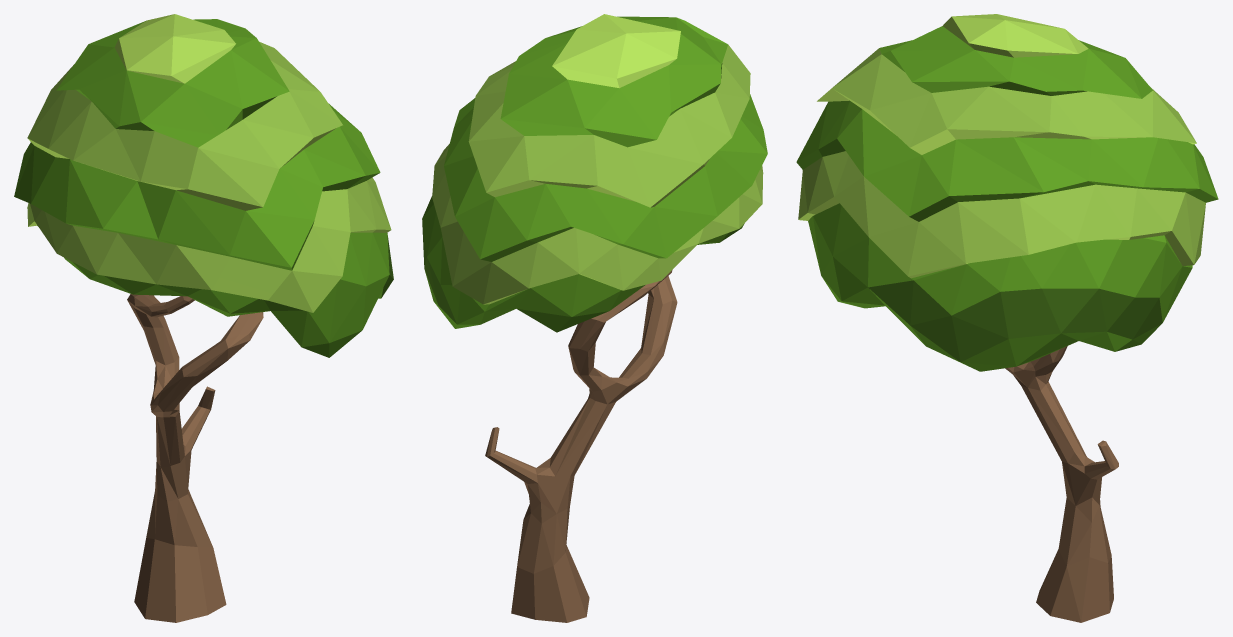
The model's file is low_poly_tree_2.glb.
3 renders of one model, left to right at view 1: azimuth 30°, elevation 25°; view 2: azimuth 150°, elevation 25°; view 3: azimuth 270°, elevation 25°, orthographic. The views are drawn at different scales.
Parts seen in each view (by area): view 1: Tree_winding_01; view 2: Tree_winding_01; view 3: Tree_winding_01.
Part boxes in pixels (x1,y1,x2,y2): Tree_winding_01: [14, 14, 393, 622]; Tree_winding_01: [422, 14, 767, 622]; Tree_winding_01: [796, 14, 1218, 622].
Bounding box in the file's own units: 4.07 × 7.46 × 5.05.
1 material, 1 textured.
